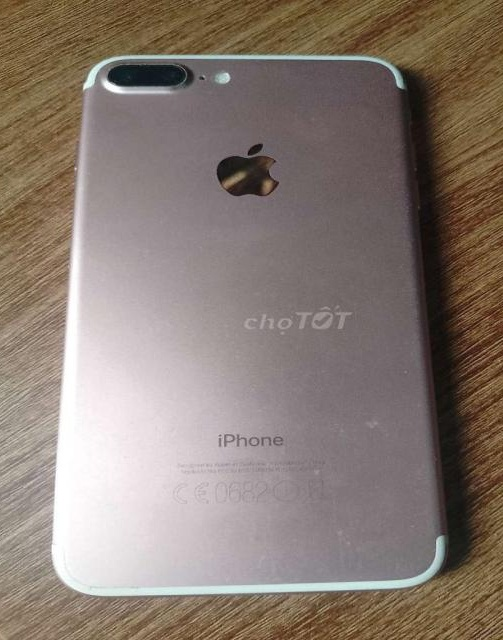scratch: (98, 62, 198, 93), (324, 516, 373, 574), (239, 545, 277, 575), (360, 410, 387, 439), (305, 107, 325, 135), (304, 455, 324, 480), (400, 364, 416, 377), (404, 520, 422, 531), (410, 397, 426, 409)
